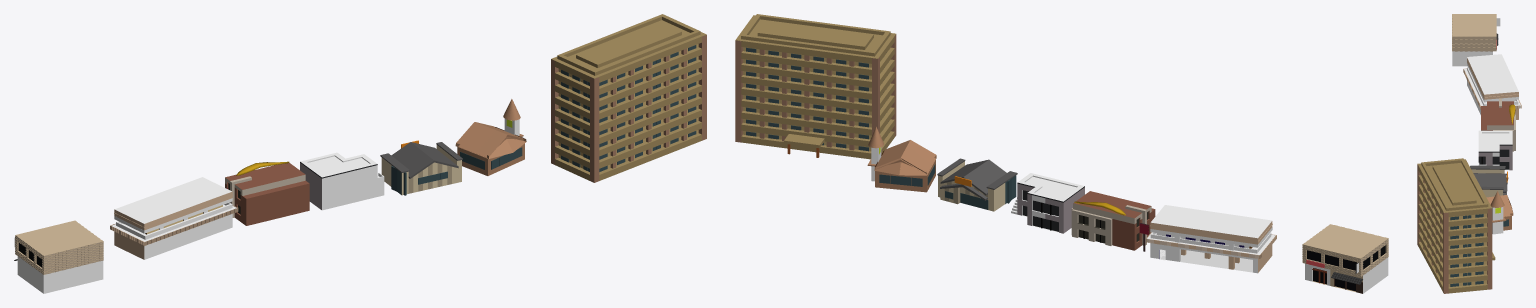
Rendered from build3.glb.
The picture shows the model from 3 angles, left to right: view 1: azimuth 30°, elevation 25°; view 2: azimuth 150°, elevation 25°; view 3: azimuth 270°, elevation 25°; orthographic projection. The views are drawn at different scales.
Visible parts, largest first — view 1: 立方体.032, 立方体.013, 立方体.035, 立方体.029, 立方体.027, 立方体.019, 立方体.014, 立方体, 立方体.005, 立方体.002, 立方体.001, 立方体.006 (+9 smaller); view 2: 立方体.032, 立方体.013, 立方体.035, 立方体.029, 立方体.027, 立方体.014, 立方体.019, 立方体.005, 立方体.003, 立方体, 立方体.006, 立方体.002 (+8 smaller); view 3: 立方体.013, 立方体.032, 立方体.035, 立方体.027, 立方体, 立方体.029, 立方体.019, 立方体.004, 立方体.003, 立方体.014, 立方体.006, 立方体.012 (+10 smaller).
Boxes of the visible parts, <box> form: 立方体.032: <box>111,177,236,259</box>; 立方体.013: <box>551,14,706,82</box>; 立方体.035: <box>14,220,103,293</box>; 立方体.029: <box>225,162,309,225</box>; 立方体.027: <box>300,152,377,210</box>; 立方体.019: <box>380,142,462,195</box>; 立方体.014: <box>455,119,526,175</box>; 立方体: <box>551,35,706,182</box>; 立方体.005: <box>599,45,696,171</box>; 立方体.002: <box>610,48,686,168</box>; 立方体.001: <box>555,133,701,180</box>; 立方体.006: <box>555,121,701,168</box>; 立方体.032: <box>1147,205,1275,273</box>; 立方体.013: <box>735,14,895,63</box>; 立方体.035: <box>1302,224,1388,293</box>; 立方体.029: <box>1071,191,1155,250</box>; 立方体.027: <box>1017,173,1084,233</box>; 立方体.014: <box>871,140,936,192</box>; 立方体.019: <box>937,158,1017,211</box>; 立方体.005: <box>746,47,868,151</box>; 立方体.003: <box>743,47,871,151</box>; 立方体: <box>735,34,896,142</box>; 立方体.006: <box>741,119,894,157</box>; 立方体.002: <box>759,49,854,150</box>; 立方体.013: <box>1417,158,1491,216</box>; 立方体.032: <box>1464,54,1520,119</box>; 立方体.035: <box>1452,14,1500,66</box>; 立方体.027: <box>1478,130,1512,170</box>; 立方体: <box>1417,164,1492,293</box>; 立方体.029: <box>1481,98,1515,151</box>; 立方体.019: <box>1470,165,1508,197</box>; 立方体.004: <box>1450,214,1483,286</box>; 立方体.003: <box>1448,213,1486,286</box>; 立方体.014: <box>1486,195,1513,234</box>; 立方体.006: <box>1418,232,1495,283</box>; 立方体.012: <box>1418,175,1487,226</box>.
Bounding box in the file's own units: 19.05 × 2.98 × 3.36.
